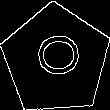O_W: (30, 37, 82, 83)
